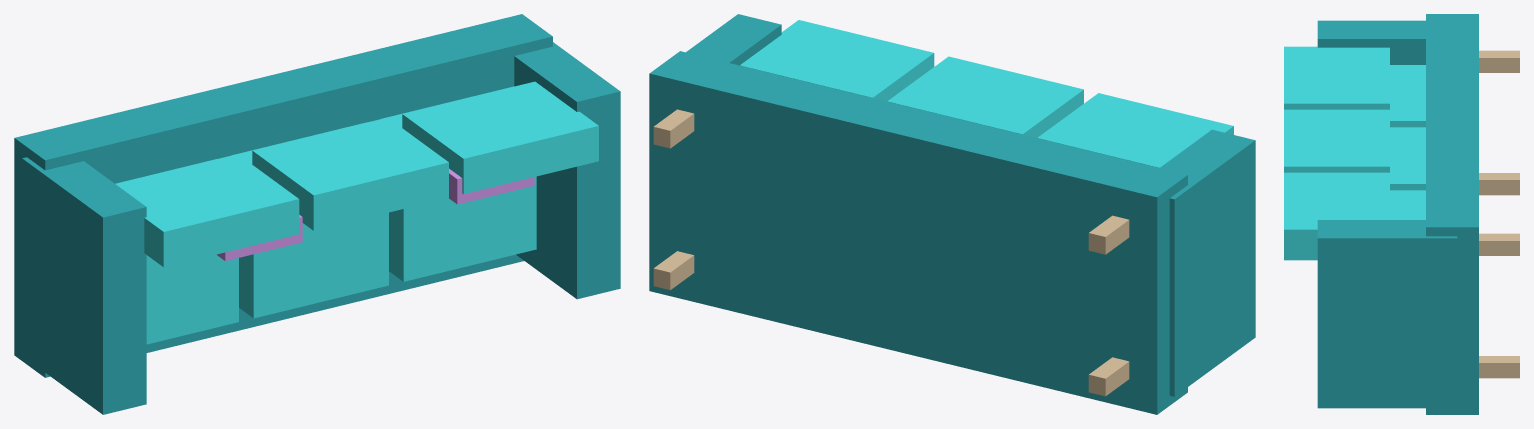
File: sofa.glb
3 renders of one model, left to right at view 1: azimuth 30°, elevation 25°; view 2: azimuth 150°, elevation 25°; view 3: azimuth 270°, elevation 25°, orthographic. The views are drawn at different scales.
Parts seen in each view (by area): view 1: world; view 2: world; view 3: world.
Part boxes in pixels (<box>): world: <box>14,14,620,414</box>; world: <box>649,14,1255,414</box>; world: <box>1284,14,1519,414</box>.
Size of the model in its own units: 2.14 by 0.86 by 0.98.
